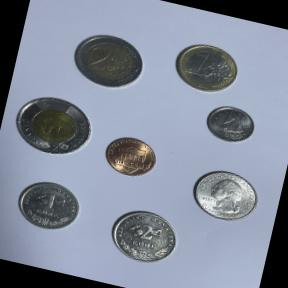1 Euro: (166, 35, 246, 99)
2 Euro: (66, 25, 152, 96)
Canda-10cent-: (198, 99, 262, 149)
Canda-2Dollar-: (6, 86, 101, 162)
Croatia-2Kune-: (102, 202, 184, 271)
US-1cent-: (97, 130, 166, 183)
US-25cent-: (181, 161, 268, 229)
